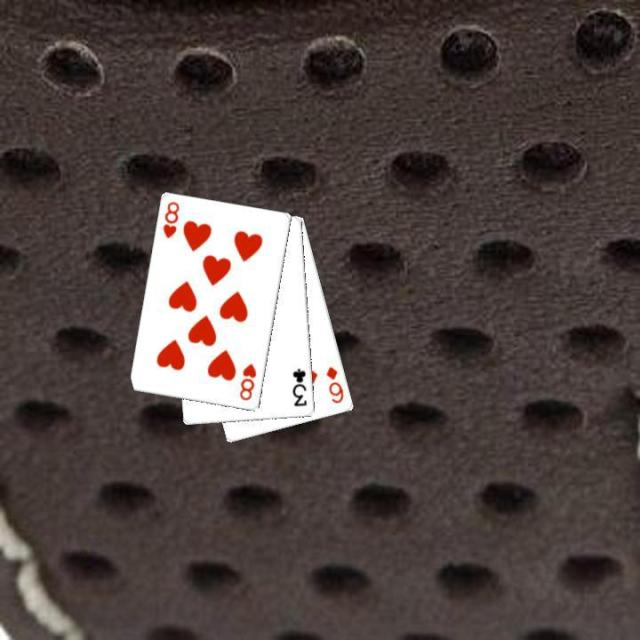3C: (289, 365, 309, 408)
6D: (322, 363, 346, 405)
8H: (236, 360, 258, 403), (159, 198, 181, 240)
